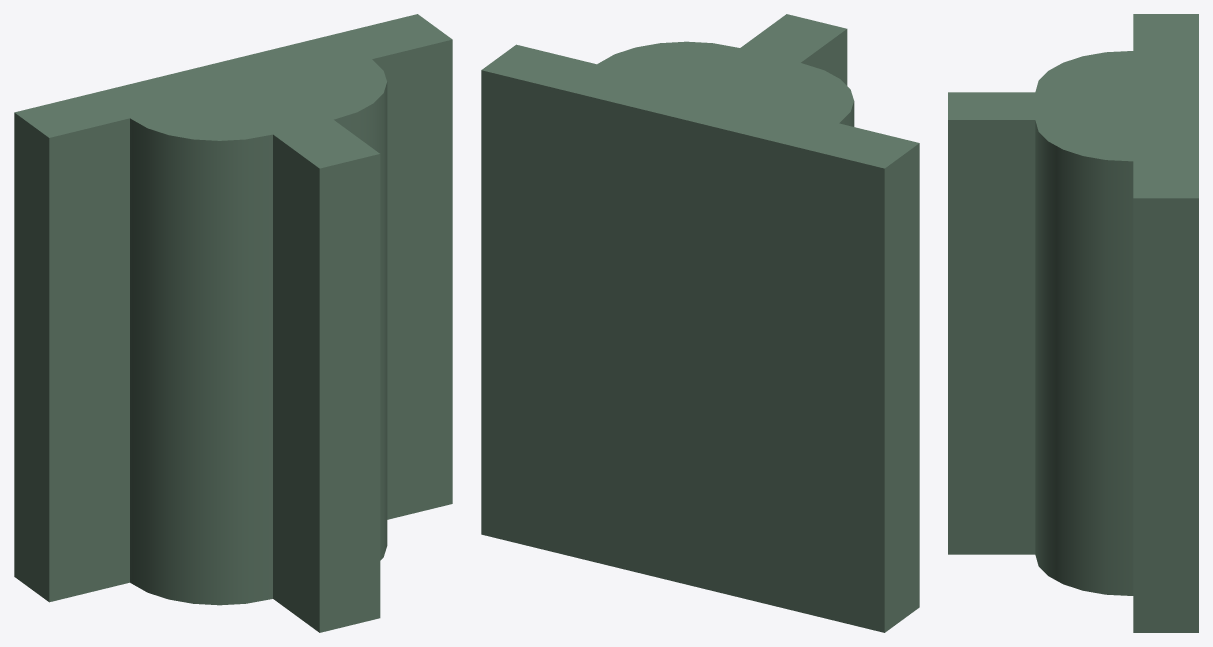
The model's file is W2_WallCorner_Round2C.fbx.
3 views of the same model, side by side, from view 1: azimuth 30°, elevation 25°; view 2: azimuth 150°, elevation 25°; view 3: azimuth 270°, elevation 25° (orthographic). The views are drawn at different scales.
Visible parts, largest first — view 1: W2_WallCorner_Round2C.001; view 2: W2_WallCorner_Round2C.001; view 3: W2_WallCorner_Round2C.001.
Boxes of the visible parts, bbox=[...] form: W2_WallCorner_Round2C.001: bbox=[14, 14, 452, 632]; W2_WallCorner_Round2C.001: bbox=[481, 14, 919, 632]; W2_WallCorner_Round2C.001: bbox=[948, 14, 1198, 632].
Bounding box in the file's own units: 2 × 2.2 × 1.15.
